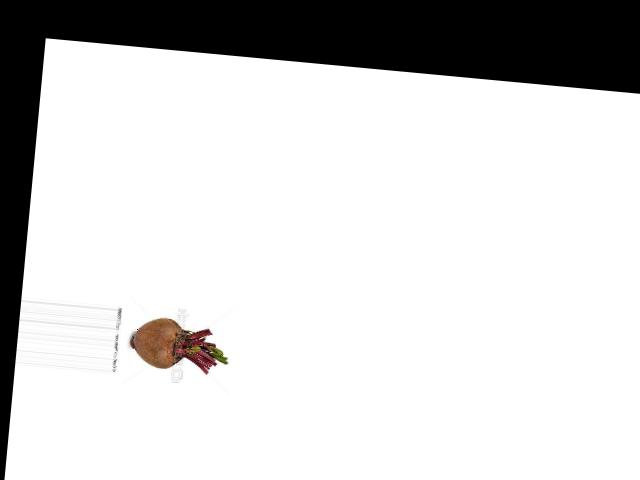beet: (128, 314, 231, 375)
